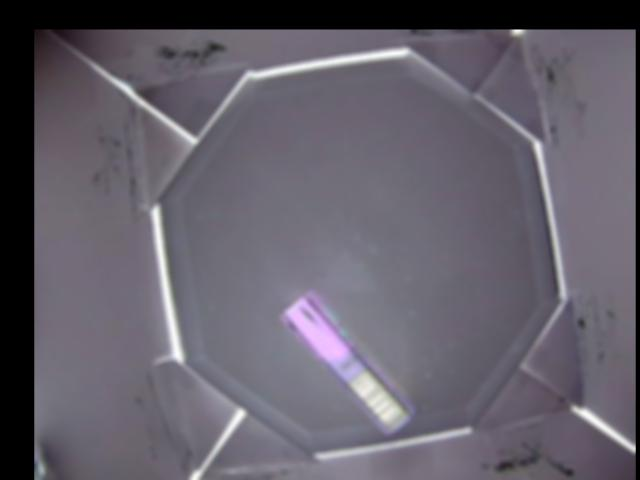Bottle: (278, 287, 420, 434)
